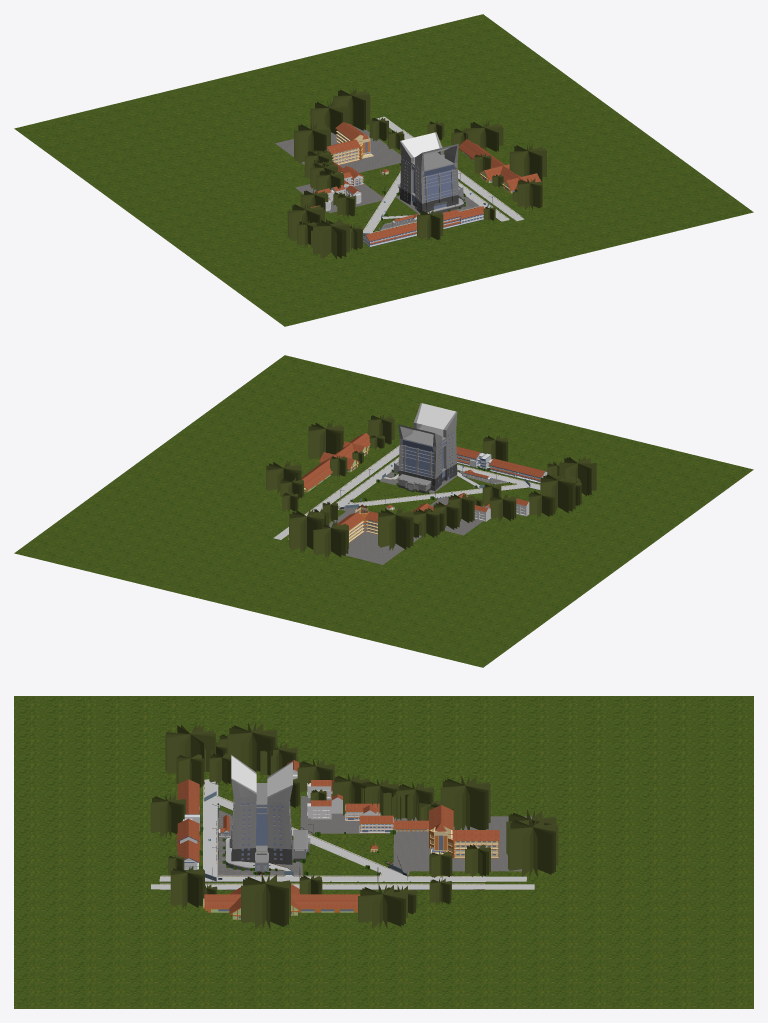
File: objJalan Gedung Riset_v3.fbx
3 renders of one model, top to bottom at view 1: azimuth 30°, elevation 25°; view 2: azimuth 150°, elevation 25°; view 3: azimuth 270°, elevation 25°, orthographic. The views are drawn at different scales.
Visible parts, largest first — view 1: Plane.001, Gedung Riset, Tanah Informatika, Plane.224, Plane.227, Plane.234, Plane.236, Tanah Riset, Plane.235, Plane.228, Jalan 1, Plane.221 (+7 smaller); view 2: Plane.001, Gedung Riset, Jalan 1, Plane.236, Tanah Informatika, Tanah Riset, Plane.234, Plane.227, Plane.235, Plane.221, Plane.224, Trotoar (+8 smaller); view 3: Plane.001, Gedung Riset, Jalan 1, Tanah Informatika, Plane.234, Plane.227, Plane.236, Trotoar, Gedung SI.002, Plane.228, Plane.221, Plane.224 (+20 smaller).
Boxes of the visible parts, x1,y1,x2,y2 form: Plane.001: [14, 14, 753, 326]; Gedung Riset: [400, 132, 463, 212]; Tanah Informatika: [275, 126, 401, 172]; Plane.224: [313, 219, 349, 259]; Plane.227: [509, 144, 546, 181]; Plane.234: [333, 88, 370, 130]; Plane.236: [294, 123, 330, 163]; Tanah Riset: [374, 191, 479, 231]; Plane.235: [310, 101, 347, 134]; Plane.228: [466, 120, 503, 151]; Jalan 1: [363, 173, 509, 233]; Plane.221: [287, 203, 324, 241]; Plane.001: [14, 355, 753, 667]; Gedung Riset: [393, 403, 457, 490]; Jalan 1: [288, 458, 540, 539]; Plane.236: [378, 507, 413, 550]; Tanah Informatika: [329, 507, 421, 564]; Tanah Riset: [351, 470, 515, 502]; Plane.234: [289, 509, 324, 553]; Plane.227: [308, 422, 343, 459]; Plane.235: [313, 520, 348, 557]; Plane.221: [540, 473, 575, 513]; Plane.224: [559, 456, 596, 496]; Trotoar: [304, 445, 539, 514]; Plane.001: [14, 696, 753, 1008]; Gedung Riset: [229, 755, 292, 872]; Jalan 1: [159, 779, 526, 881]; Tanah Informatika: [388, 816, 532, 873]; Plane.234: [508, 817, 558, 877]; Plane.227: [241, 873, 290, 929]; Plane.236: [440, 775, 490, 829]; Trotoar: [160, 780, 485, 889]; Gedung SI.002: [203, 894, 360, 912]; Plane.228: [358, 884, 407, 928]; Plane.221: [227, 722, 277, 775]; Plane.224: [165, 724, 215, 774].
Bounding box in the file's own units: 38052 × 6068 × 38052.
